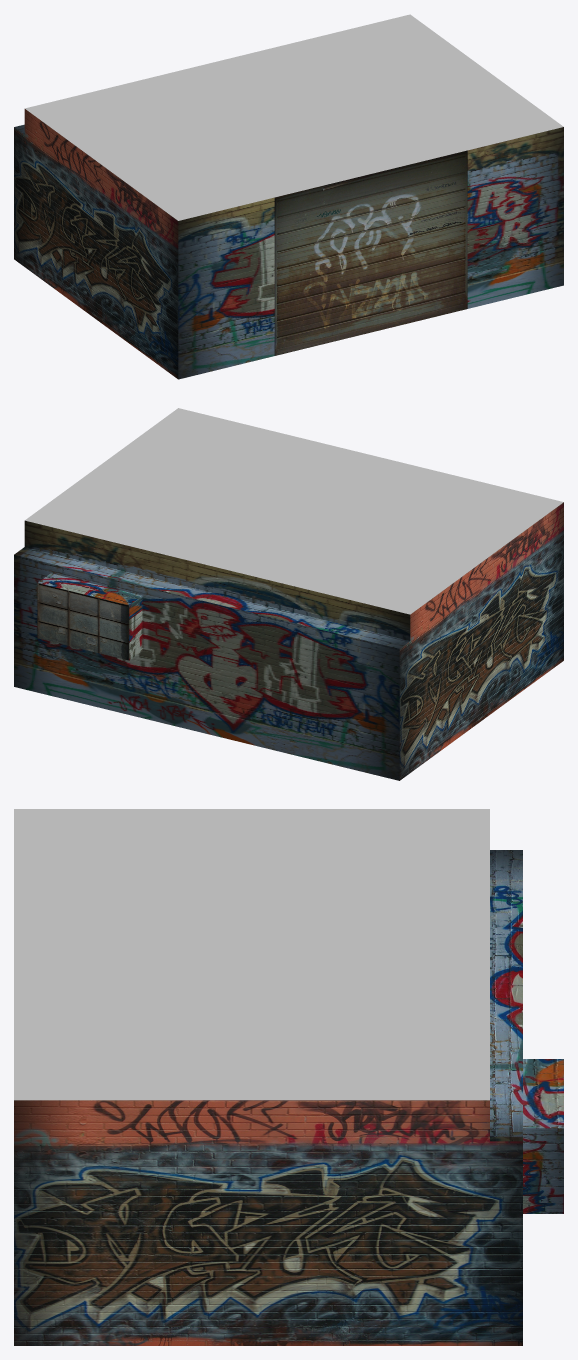
The model's file is Room.fbx.
3 views of the same model, one above another, from view 1: azimuth 30°, elevation 25°; view 2: azimuth 150°, elevation 25°; view 3: azimuth 270°, elevation 25° (orthographic). The views are drawn at different scales.
Visible parts, largest first — view 1: Empty_Mesh; view 2: Empty_Mesh; view 3: Empty_Mesh.
Part boxes in pixels (<box>): Empty_Mesh: <box>14,14,563,379</box>; Empty_Mesh: <box>14,408,563,780</box>; Empty_Mesh: <box>14,809,563,1345</box>.
Size of the model in its own units: 756995 by 297385 by 603793.
